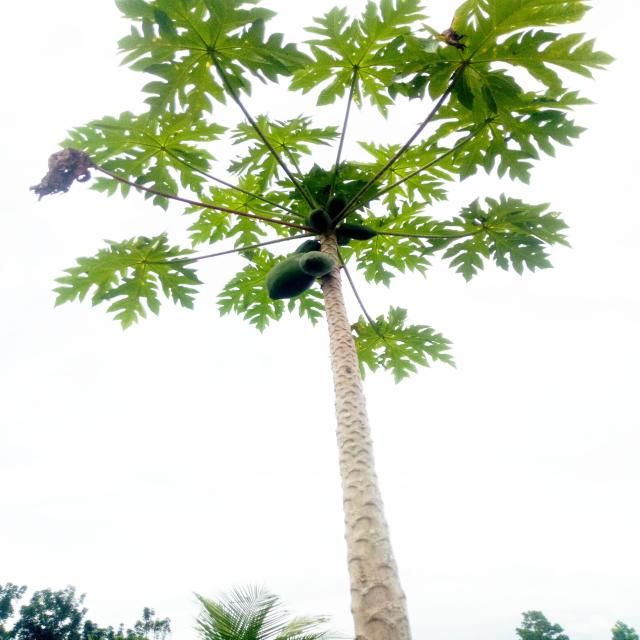Pepaya unrippen: (268, 258, 319, 299), (297, 248, 336, 278)
